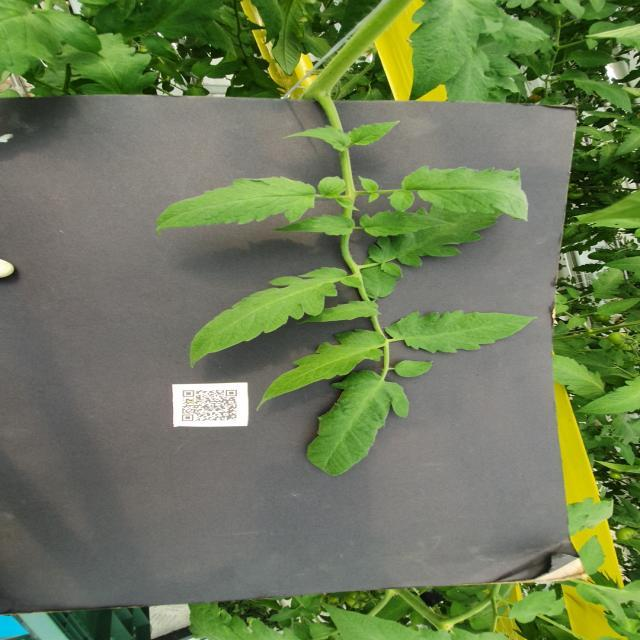Tomato healthy leaf: (189, 266, 364, 369), (306, 369, 410, 476), (255, 328, 387, 412), (367, 204, 514, 278), (156, 176, 316, 236), (408, 0, 502, 101), (386, 167, 530, 221), (384, 309, 542, 354), (59, 32, 158, 95), (319, 599, 452, 640), (560, 68, 633, 114), (443, 49, 495, 103), (358, 209, 458, 237), (572, 376, 640, 414), (552, 354, 606, 398), (296, 299, 382, 325), (280, 124, 351, 152), (271, 214, 355, 236), (508, 588, 556, 624), (360, 258, 400, 300), (349, 120, 402, 146), (590, 266, 626, 300), (578, 534, 606, 576), (568, 48, 618, 68), (596, 297, 640, 315), (614, 128, 640, 157), (394, 360, 434, 378), (318, 174, 348, 198), (573, 125, 615, 142), (598, 143, 620, 169), (614, 440, 636, 466), (564, 316, 586, 331)
